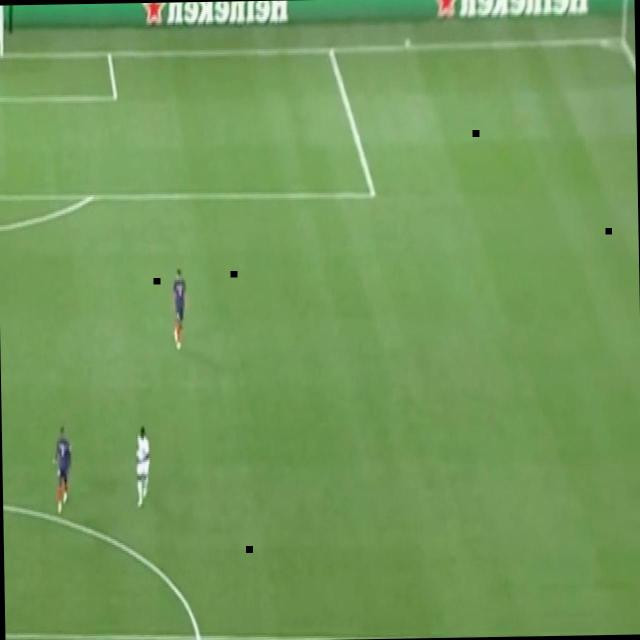player-white: (130, 421, 156, 514), (54, 423, 76, 517), (172, 264, 190, 350)
